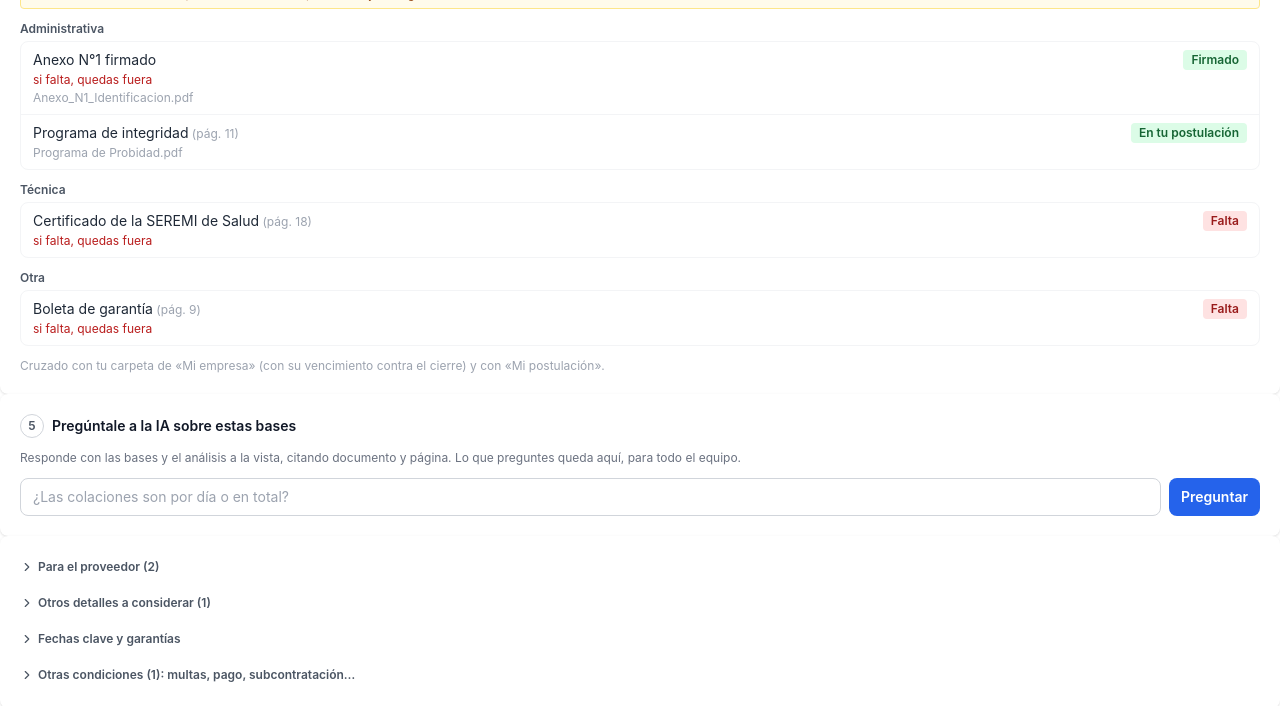
Test case: Lo que tienes que ofrecer (las exigencias) › con la oferta armada: cada exigencia dice cómo la ofreces y el pedido al proveedor queda plegado al final (decisión 80)
(page scrolled)
Expected: the text "Generador eléctrico de 10 kVA" is not shown
Click the button "Para el proveedor (2)" at (90, 567), box [20,559,160,575]
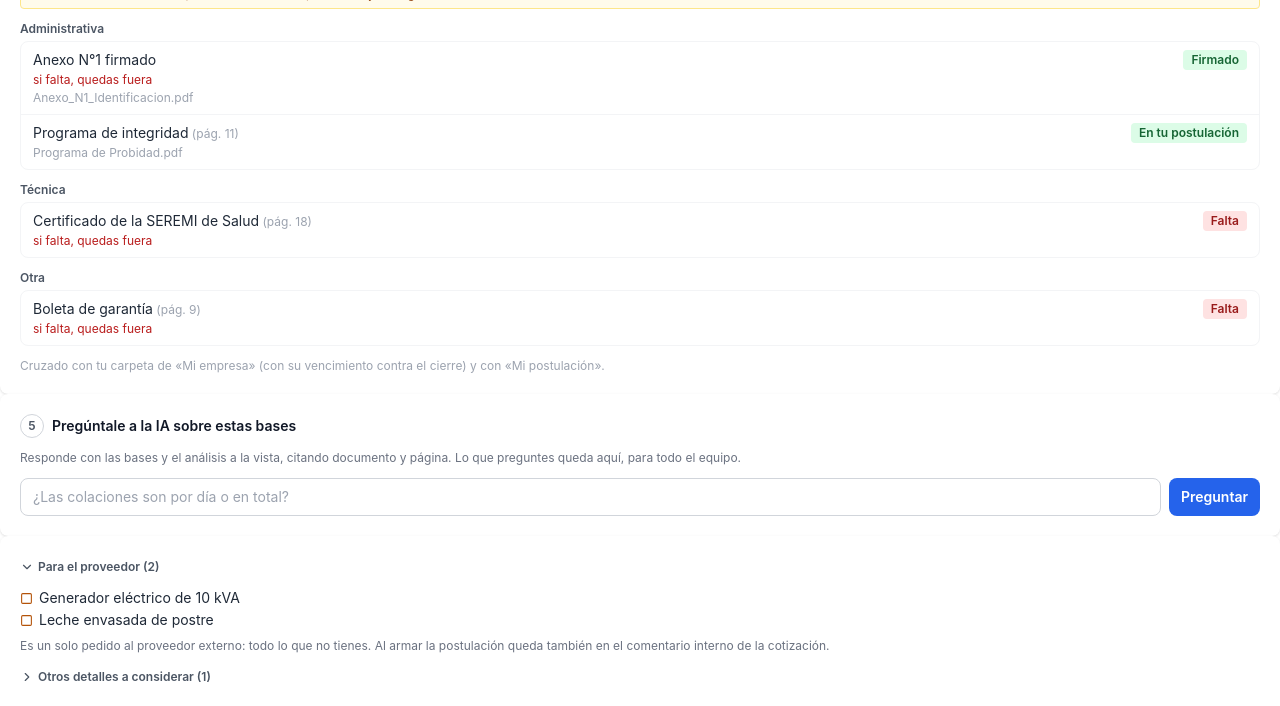
Expected: the button "Otros detalles a considerar (1)" is shown, [20,669,211,685]
Now the list item "Generador eléctrico de 10 kVA" is shown, box [20,589,240,606]
Now the list item "Leche envasada de postre" is shown, box [20,611,214,628]
